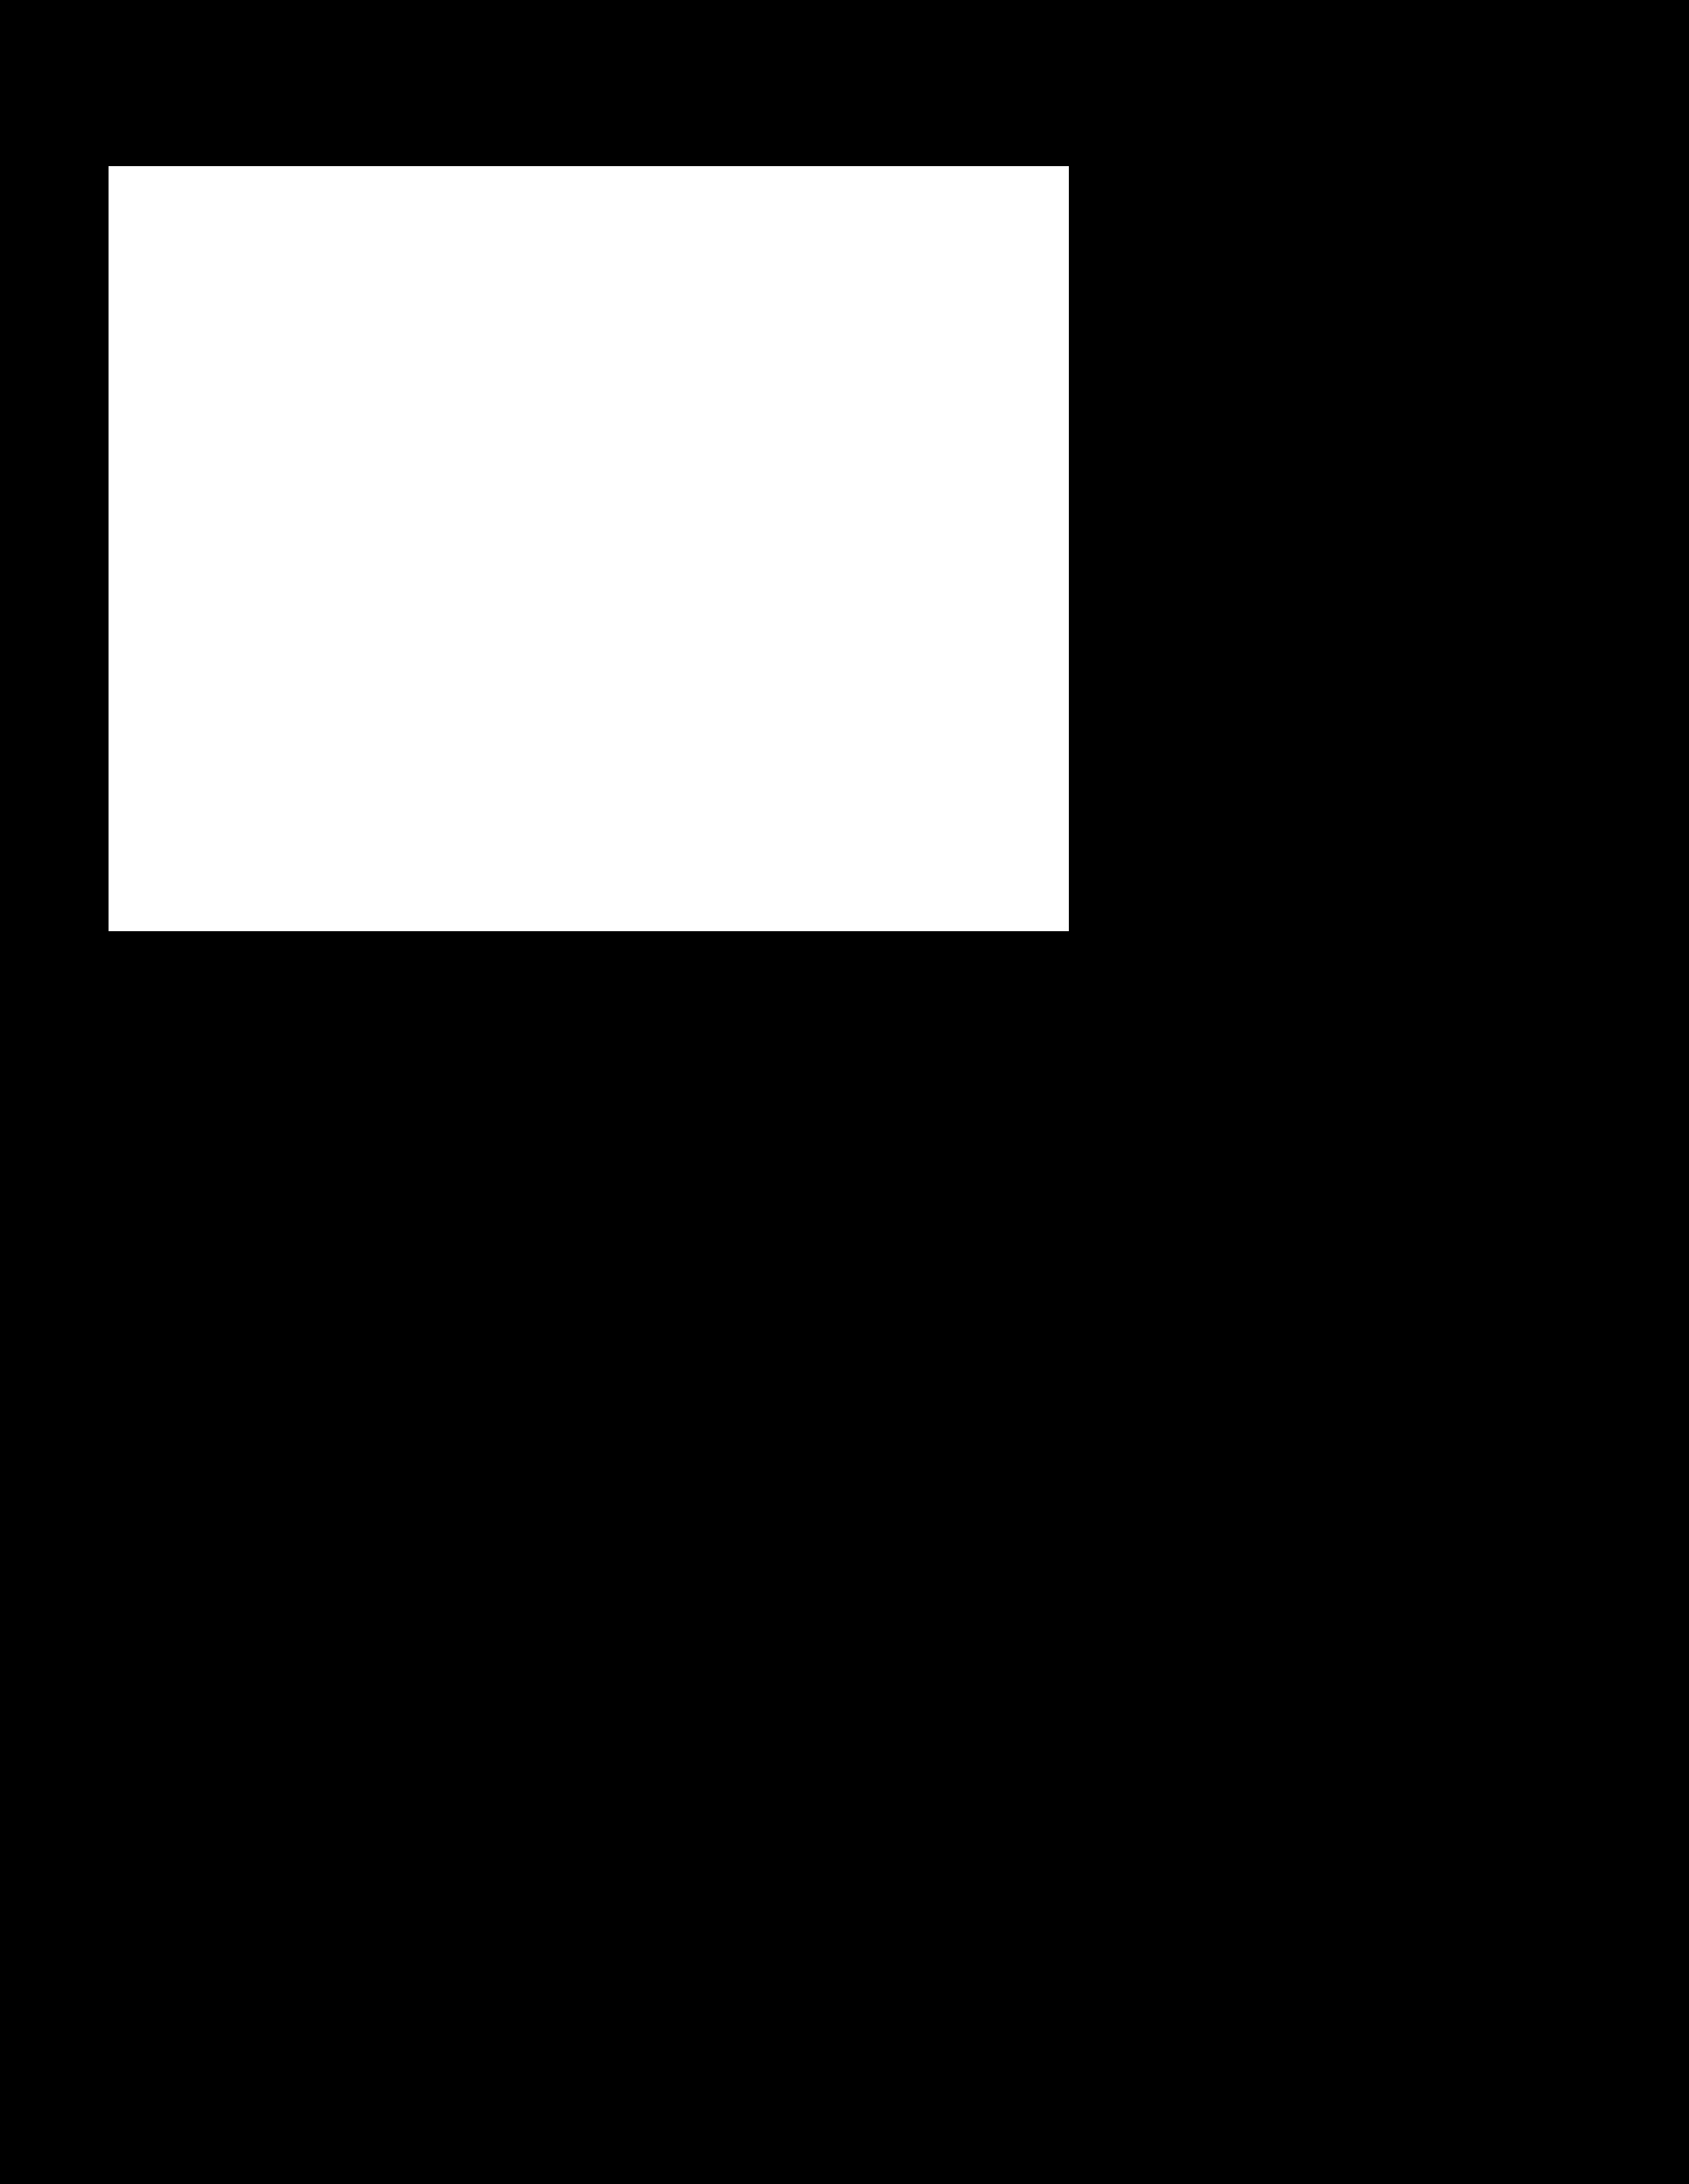table: (108, 167, 1069, 931)
